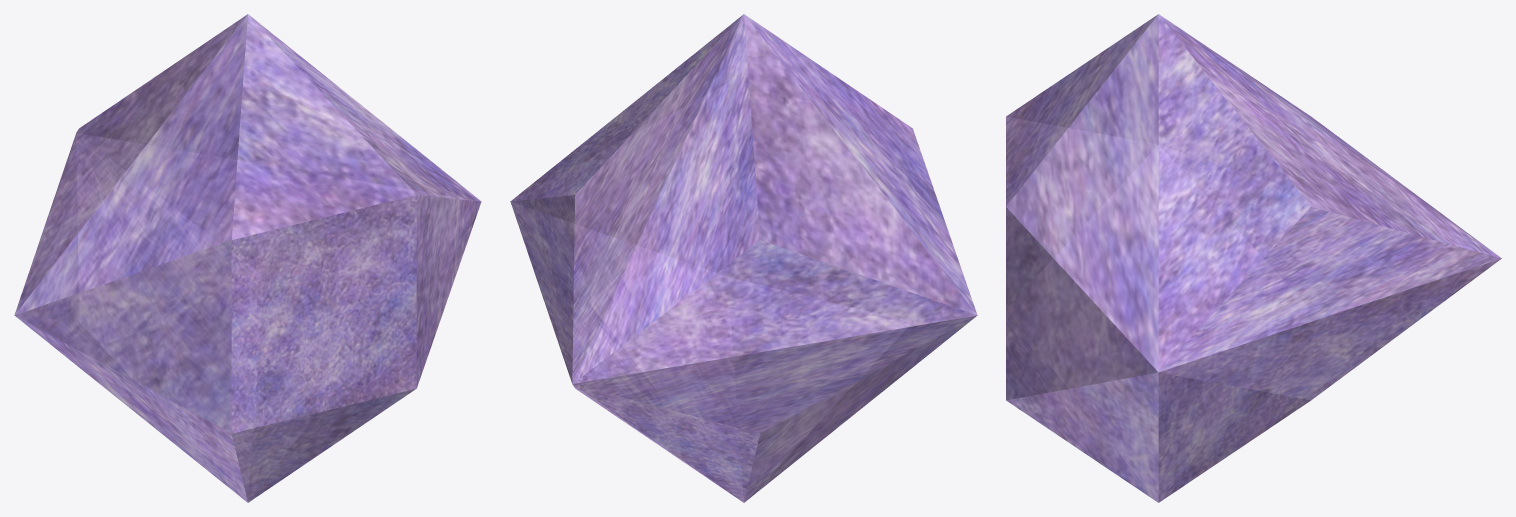
The model's file is SquareAntiprism2.obj.
3 renders of one model, left to right at view 1: azimuth 30°, elevation 25°; view 2: azimuth 150°, elevation 25°; view 3: azimuth 270°, elevation 25°, orthographic.
Bounding box in the file's own units: 1.41 × 1.41 × 1.3.
Materials: 1 (1 with a texture image).
